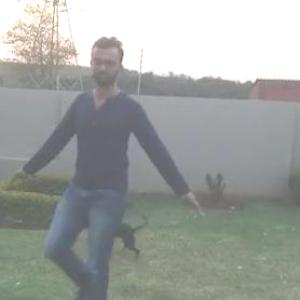land: (18, 62, 194, 294)
